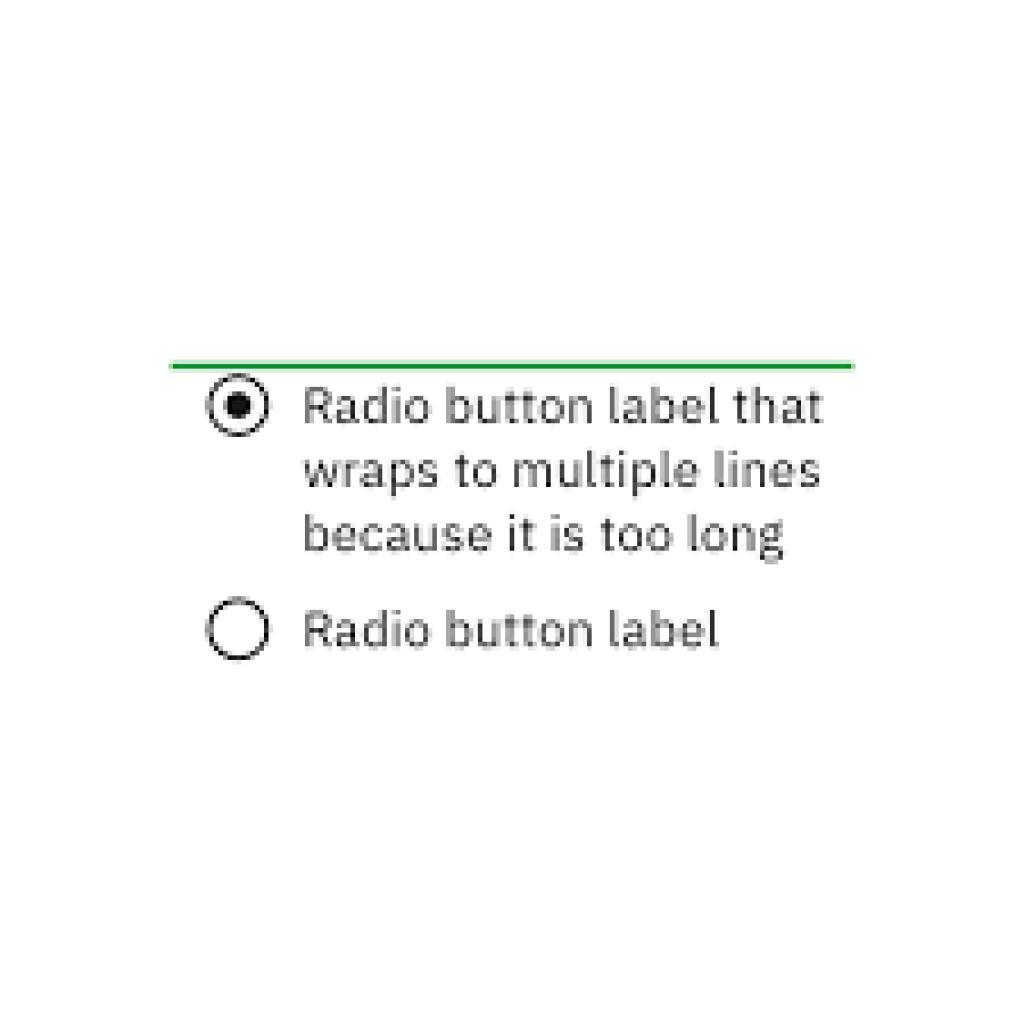radio: (204, 372, 274, 443), (204, 594, 273, 666)
